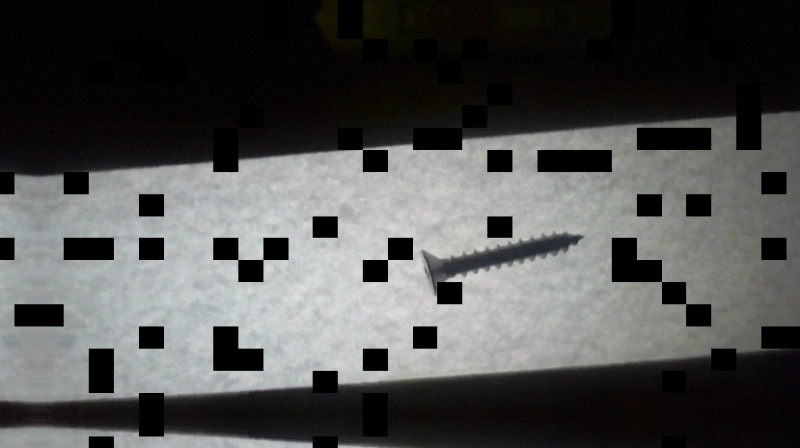S001: (418, 224, 589, 298)
